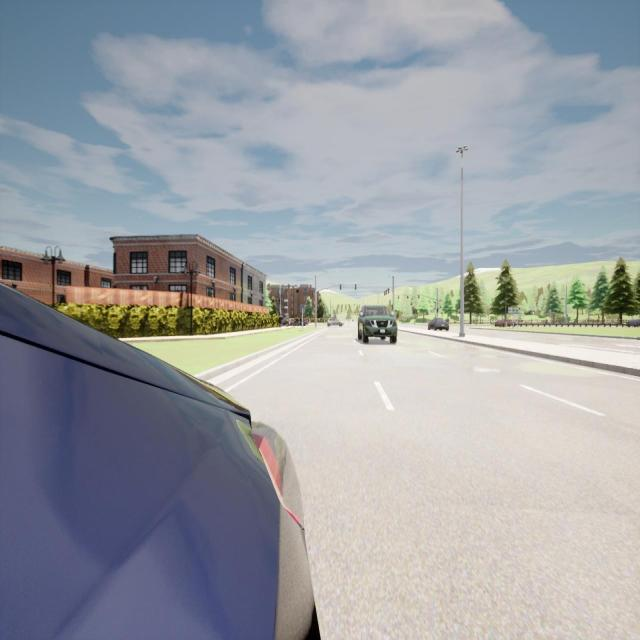Pedestrian: (278, 315, 283, 328), (295, 316, 299, 326)
Traffic_Signs: (508, 306, 520, 314), (300, 304, 306, 313)
Vehicle: (0, 283, 318, 638), (358, 304, 398, 346), (428, 317, 450, 332), (493, 318, 512, 327), (328, 318, 344, 328)
traffic_light: (418, 294, 420, 300), (407, 296, 409, 300), (340, 284, 341, 290), (355, 284, 356, 290), (384, 292, 385, 296), (386, 290, 387, 294), (388, 289, 389, 293), (398, 296, 399, 300)
